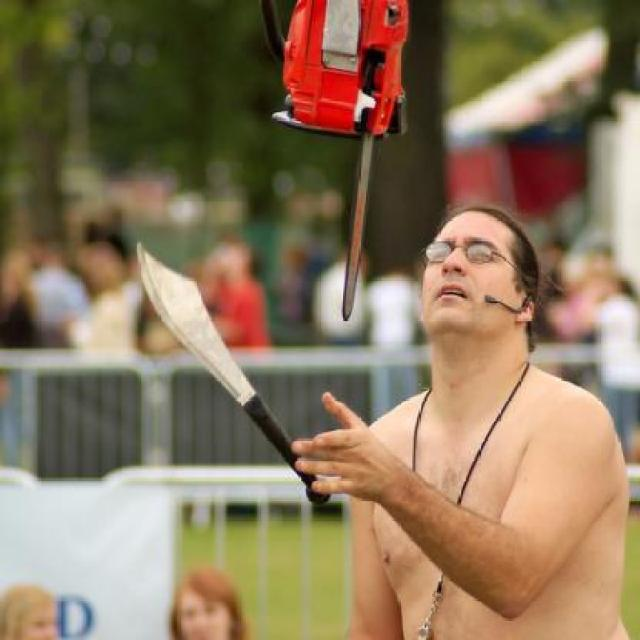Chainsaw: (264, 0, 416, 326)
